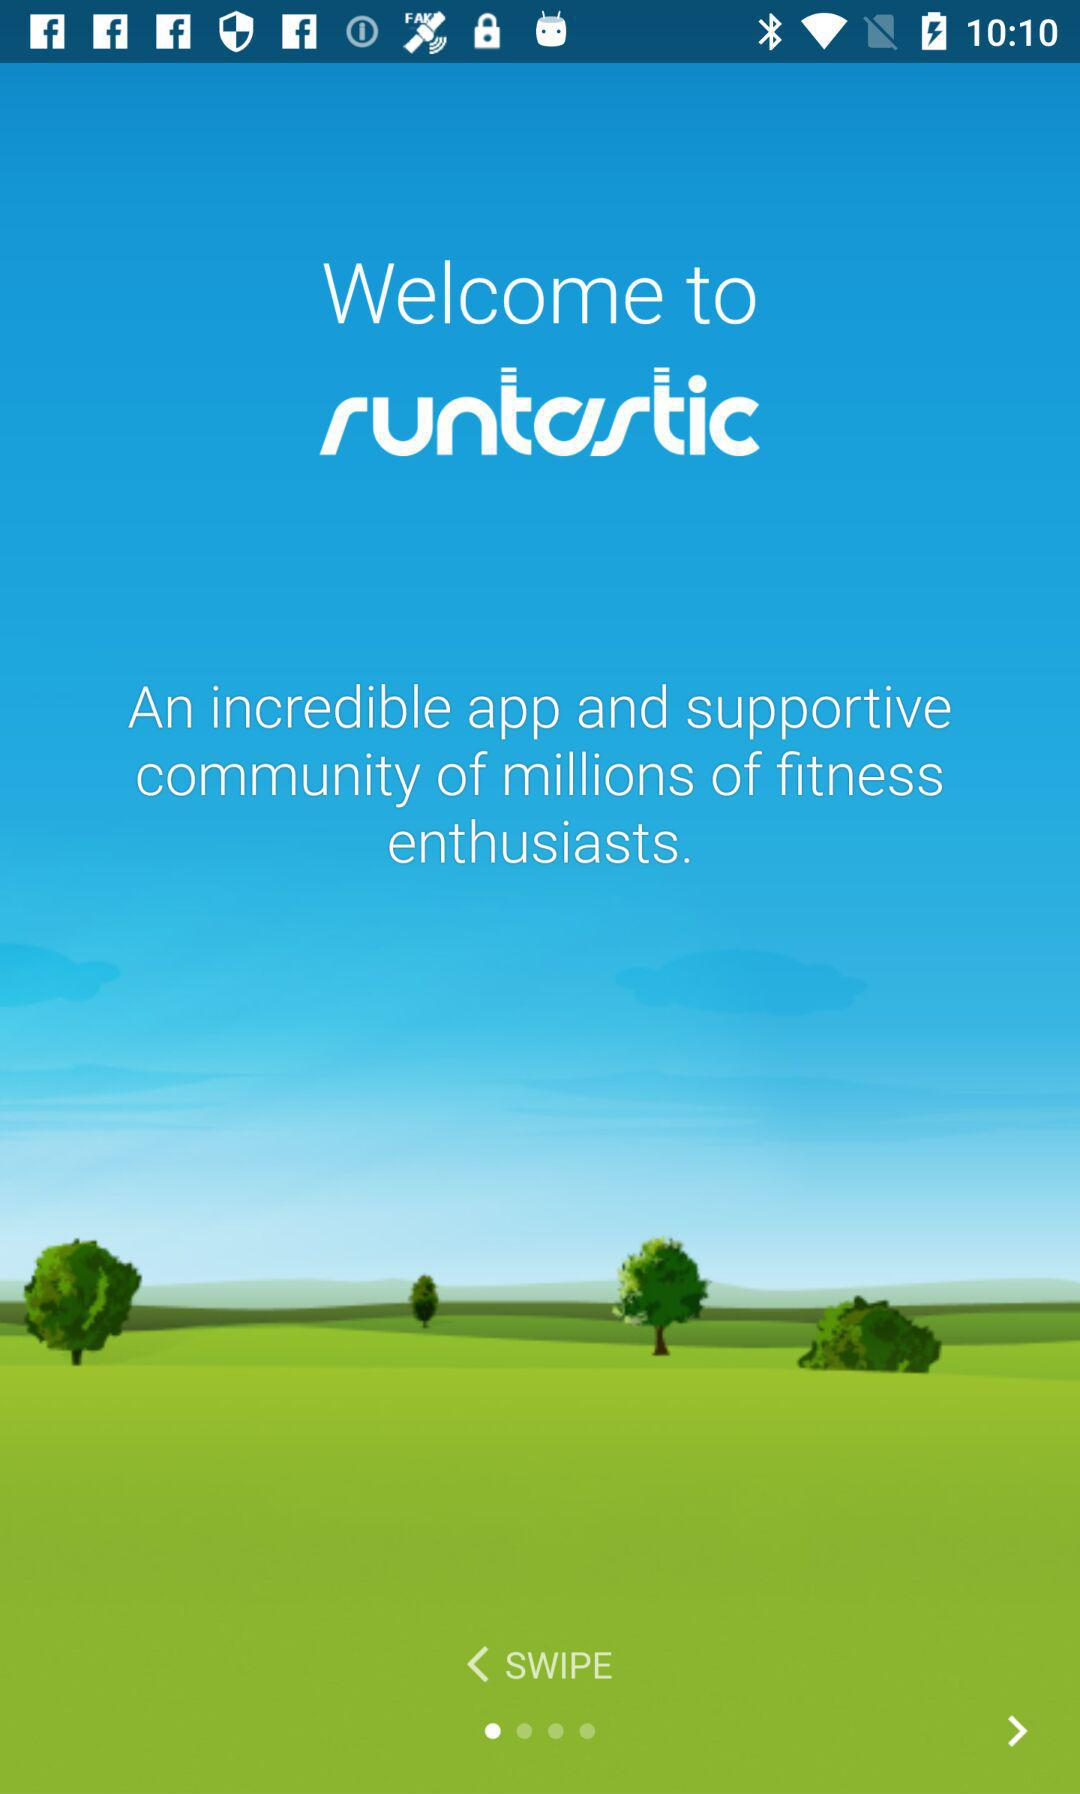BackgroundImage: (1, 64, 1080, 1794)
Icon: (466, 1645, 491, 1684), (1007, 1715, 1030, 1749)
Image: (319, 366, 761, 459)
PageIndicator: (483, 1721, 597, 1741)
Text: (127, 680, 952, 868), (323, 259, 757, 327), (505, 1650, 615, 1681)
UpperTaskBar: (1, 1, 1080, 64)
